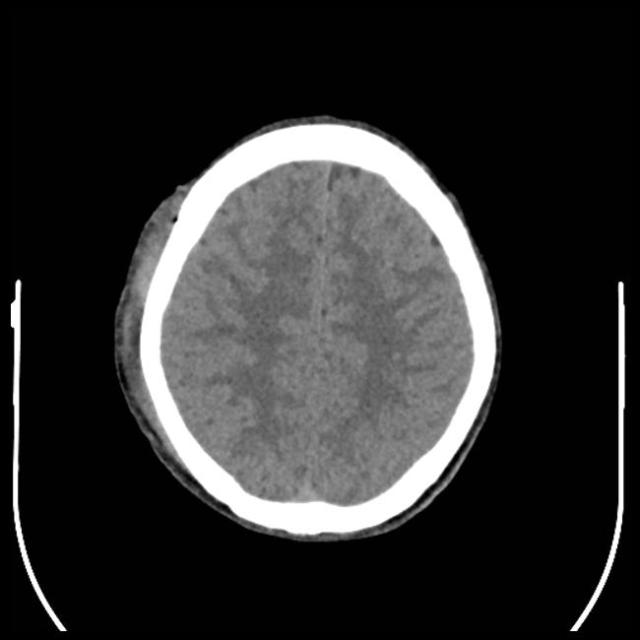lesion: (109, 110, 506, 544)
